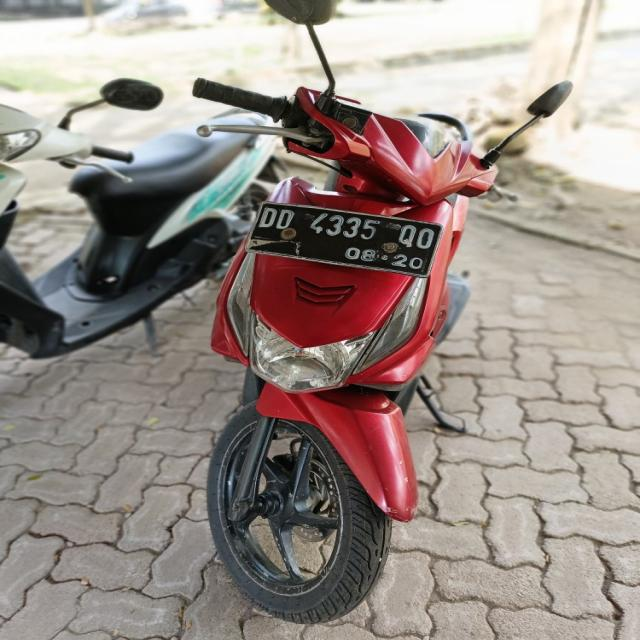plates: (252, 202, 446, 284)
